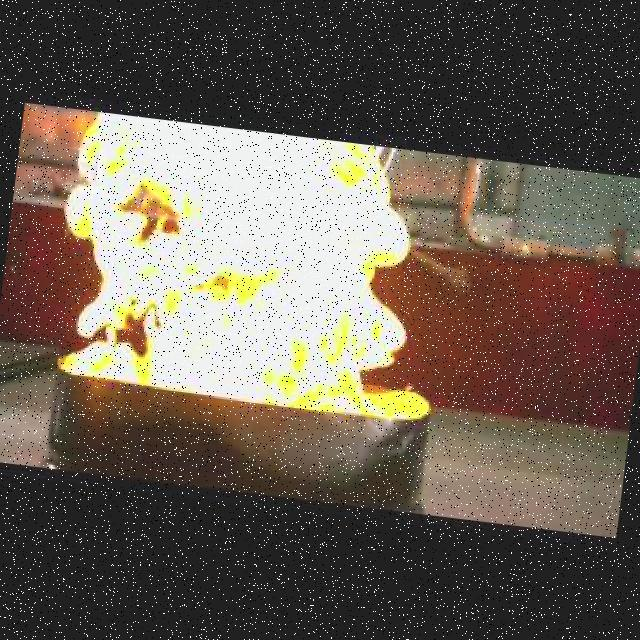Fire: (50, 116, 451, 417)
